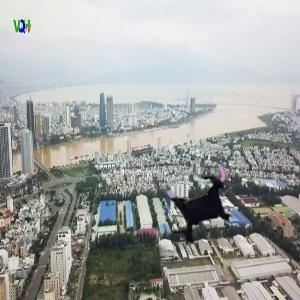drone: (150, 155, 249, 254)
